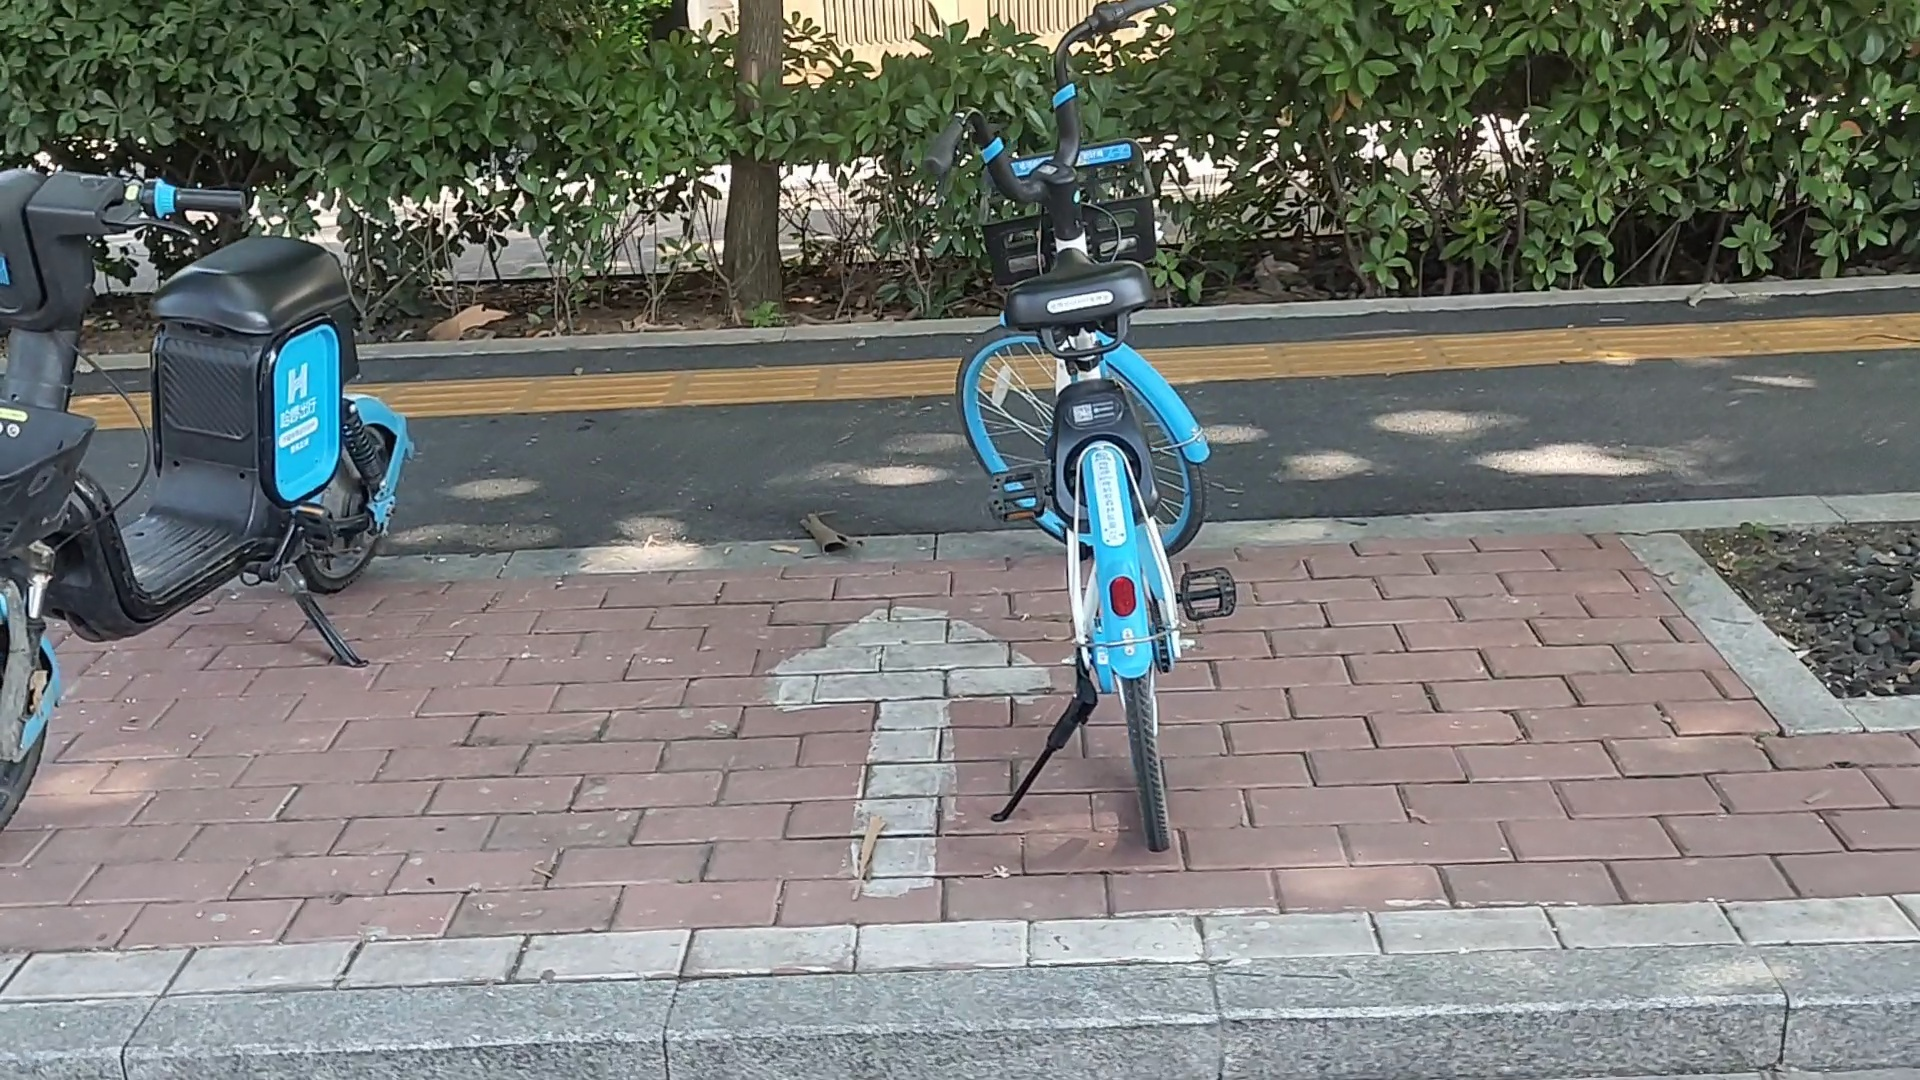non-vehicle: (7, 117, 411, 976), (924, 3, 1217, 851)
